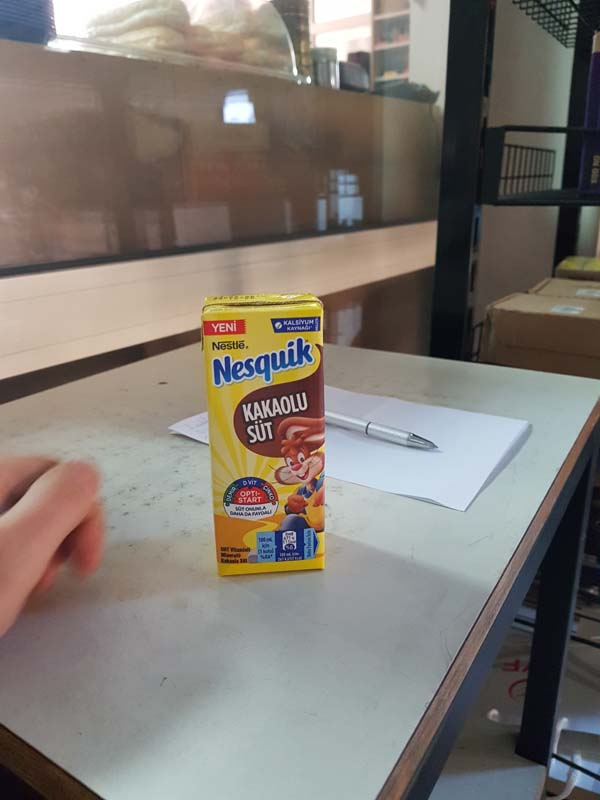nesquick200ml: (200, 295, 332, 580)
